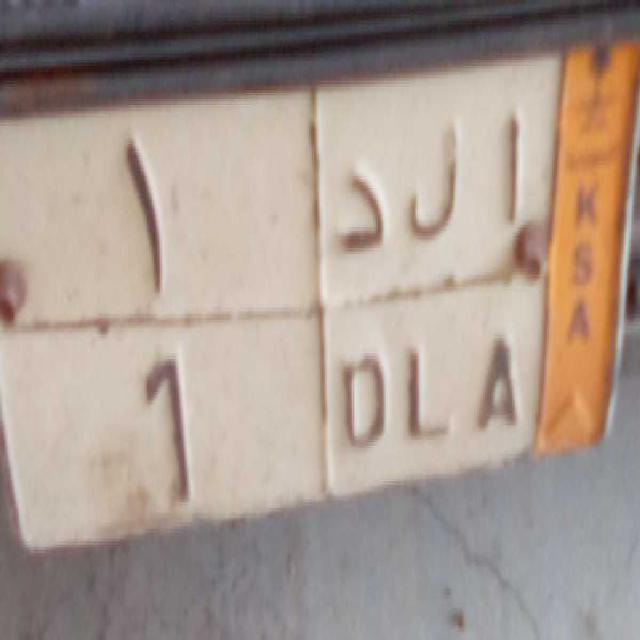license_plate: (11, 299, 556, 519)
